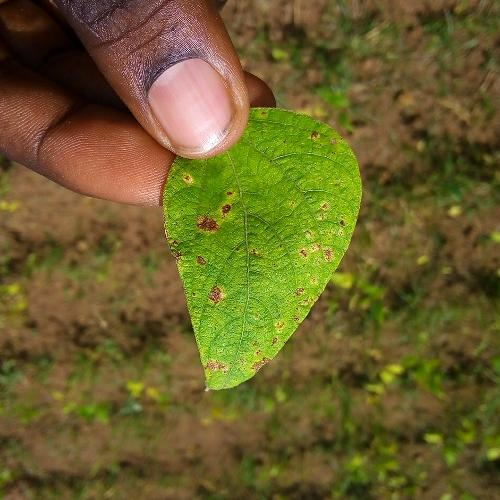hawar: (284, 193, 354, 276), (181, 166, 243, 246), (211, 346, 280, 386), (190, 282, 239, 322)
